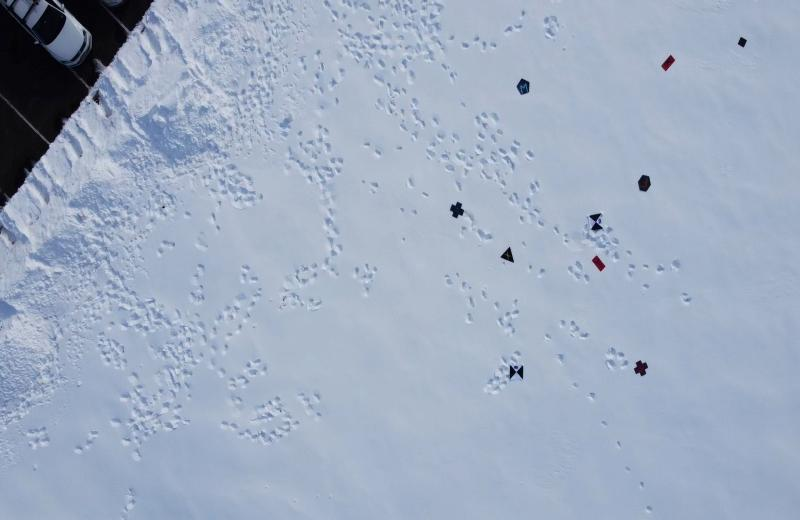Cross: (449, 202, 466, 220), (633, 358, 649, 377)
Hexagon: (636, 175, 652, 194)
Pentagon: (516, 78, 533, 98)
Rectangle: (660, 54, 676, 71), (592, 254, 606, 272)
Square: (736, 36, 749, 50)
Triangle: (500, 246, 516, 267)
